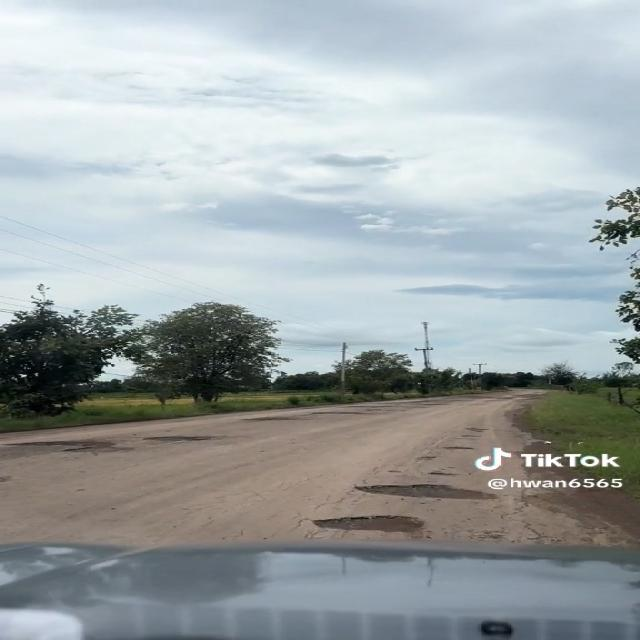Poth-hole: (175, 477, 362, 515)
